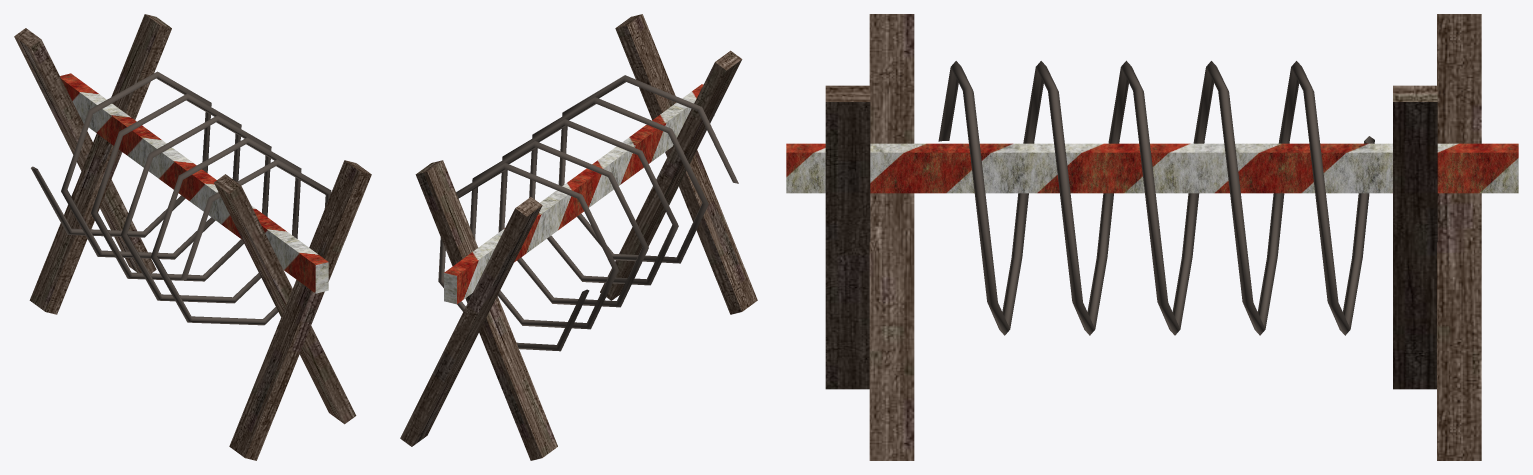
File: Fence_colapce.fbx
3 renders of one model, left to right at view 1: azimuth 30°, elevation 25°; view 2: azimuth 150°, elevation 25°; view 3: azimuth 270°, elevation 25°, orthographic. The views are drawn at different scales.
Visible parts, largest first — view 1: Fence_colapce; view 2: Fence_colapce; view 3: Fence_colapce.
Boxes of the visible parts, box(x1,y1,x2,y2) form: Fence_colapce: box(14, 14, 371, 460); Fence_colapce: box(400, 14, 757, 460); Fence_colapce: box(786, 14, 1518, 460).
Bounding box in the file's own units: 94.81 × 146 × 258.
